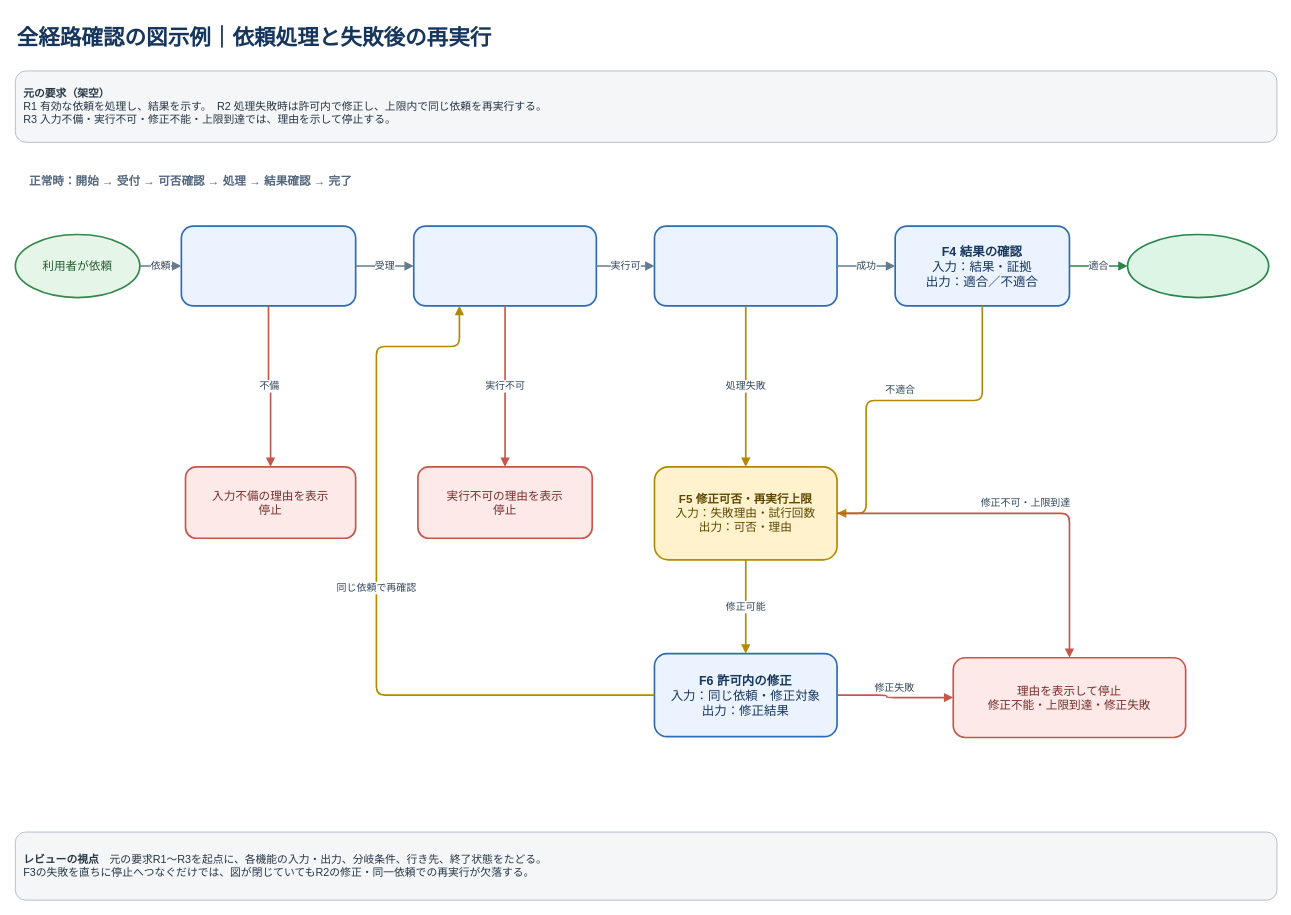
Some shapes in this 1291 by 915 pixel diagram are drawn without their labels. Each missing label, with the centre of its shape:
F1 受付 入力：依頼・対象ID 出力：受付結果: pixel 268 265
F2 実行可否の確認 入力：依頼・許可条件 出力：可否・理由: pixel 505 265
F3 処理 入力：同じ依頼・対象ID 出力：結果／失敗理由: pixel 745 265
結果を提示 完了: pixel 1197 265
